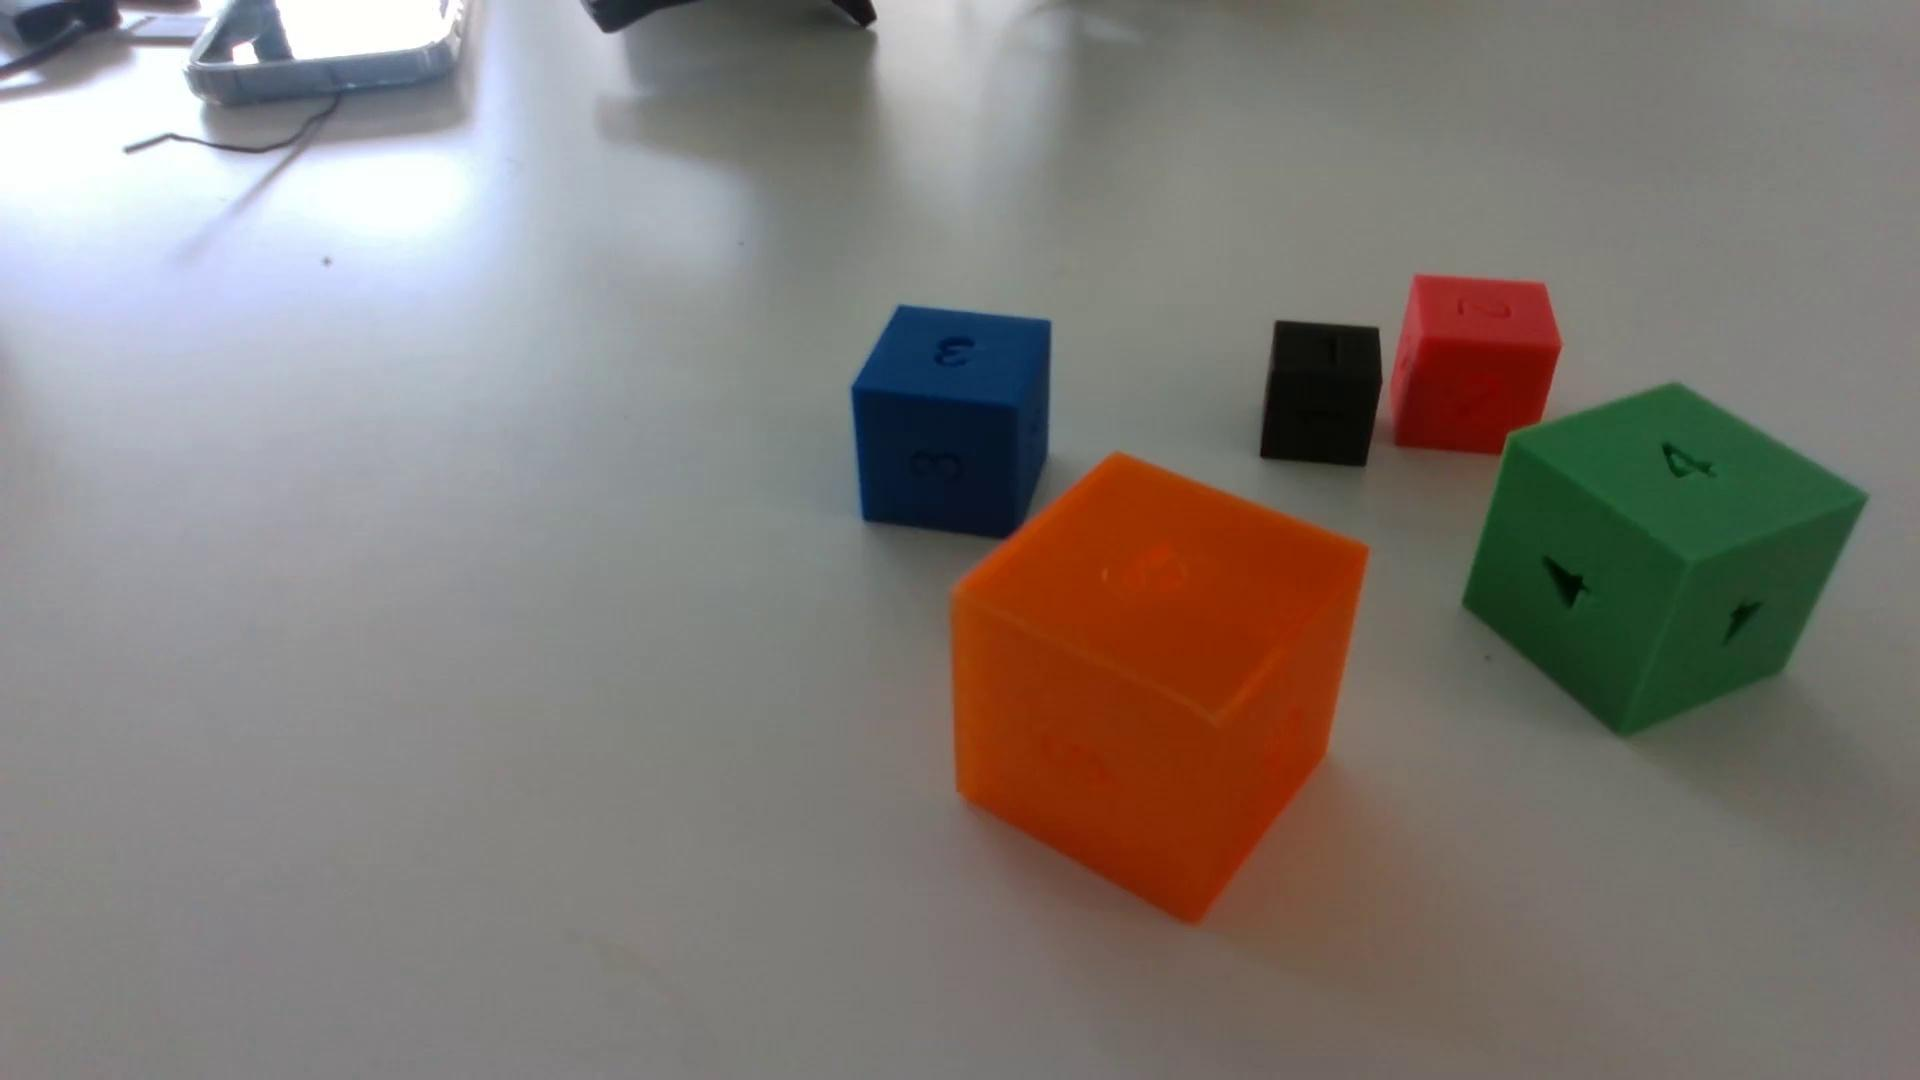black: (1259, 320, 1383, 468)
blue: (851, 306, 1052, 541)
green: (1462, 385, 1865, 737)
orange: (949, 454, 1367, 922)
red: (1389, 276, 1561, 456)
